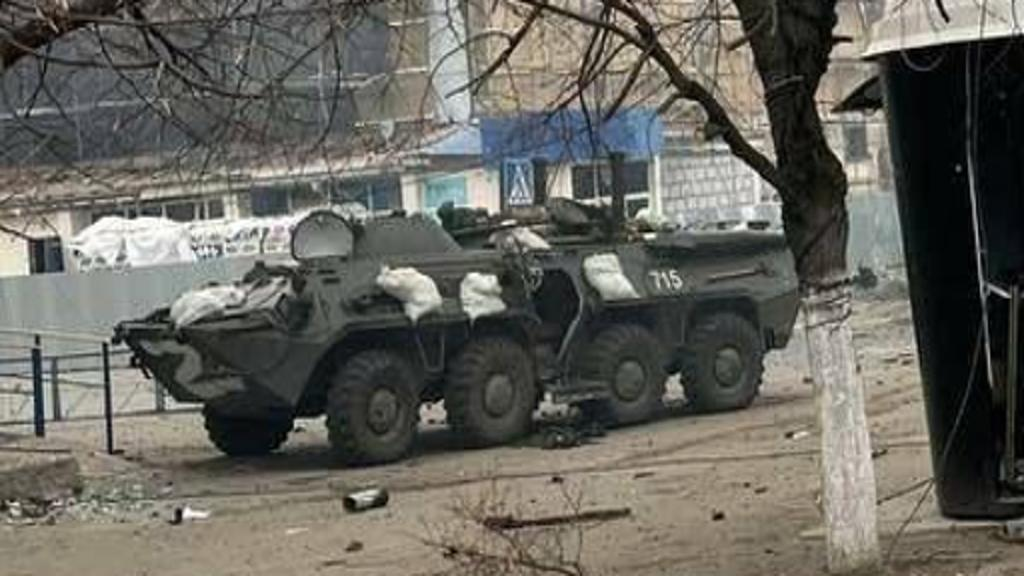APC-IFV: (126, 192, 800, 452)
